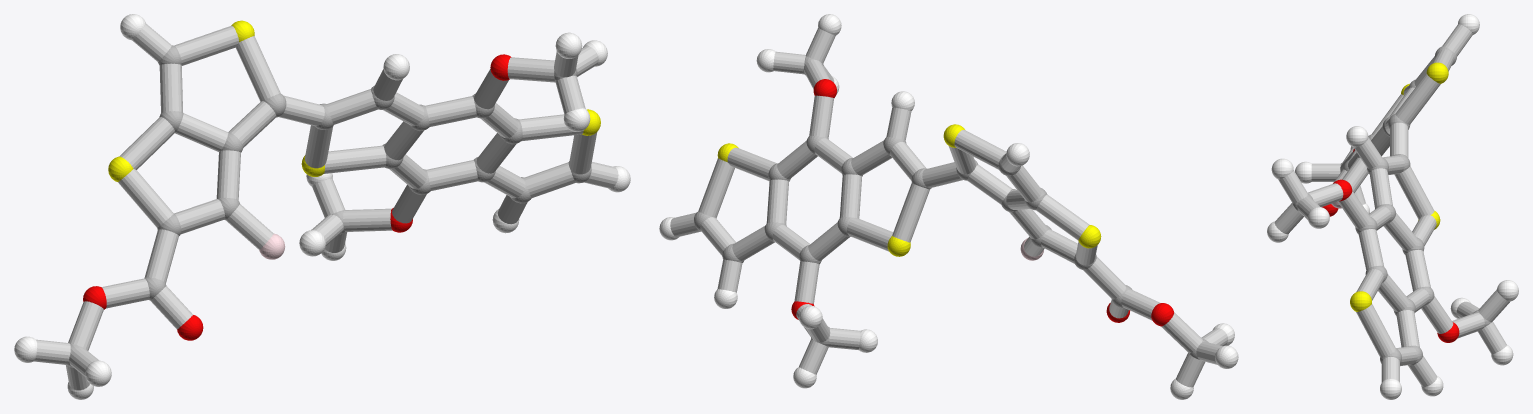
Rendered from color.glb.
The picture shows the model from 3 angles, left to right: view 1: azimuth 30°, elevation 25°; view 2: azimuth 150°, elevation 25°; view 3: azimuth 270°, elevation 25°; orthographic projection. The views are drawn at different scales.
Parts seen in each view (by area): view 1: grp15205, grp8689, grp1, grp13395, grp7241; view 2: grp15205, grp8689, grp1, grp7241, grp13395; view 3: grp15205, grp8689, grp1, grp7241, grp13395.
Part boxes in pixels (<box>): grp15205: <box>34,24,618,390</box>; grp8689: <box>14,14,630,399</box>; grp1: <box>67,45,591,367</box>; grp13395: <box>83,54,511,340</box>; grp7241: <box>108,20,600,181</box>; grp15205: <box>670,28,1227,387</box>; grp8689: <box>659,14,1238,399</box>; grp1: <box>694,56,1208,359</box>; grp7241: <box>717,124,1101,256</box>; grp13395: <box>791,79,1173,326</box>; grp15205: <box>1274,24,1509,386</box>; grp8689: <box>1267,14,1518,399</box>; grp1: <box>1293,46,1491,365</box>; grp7241: <box>1350,62,1448,311</box>; grp13395: <box>1322,149,1459,342</box>.
Size of the model in its own units: 16.43 by 7.79 by 6.83.
